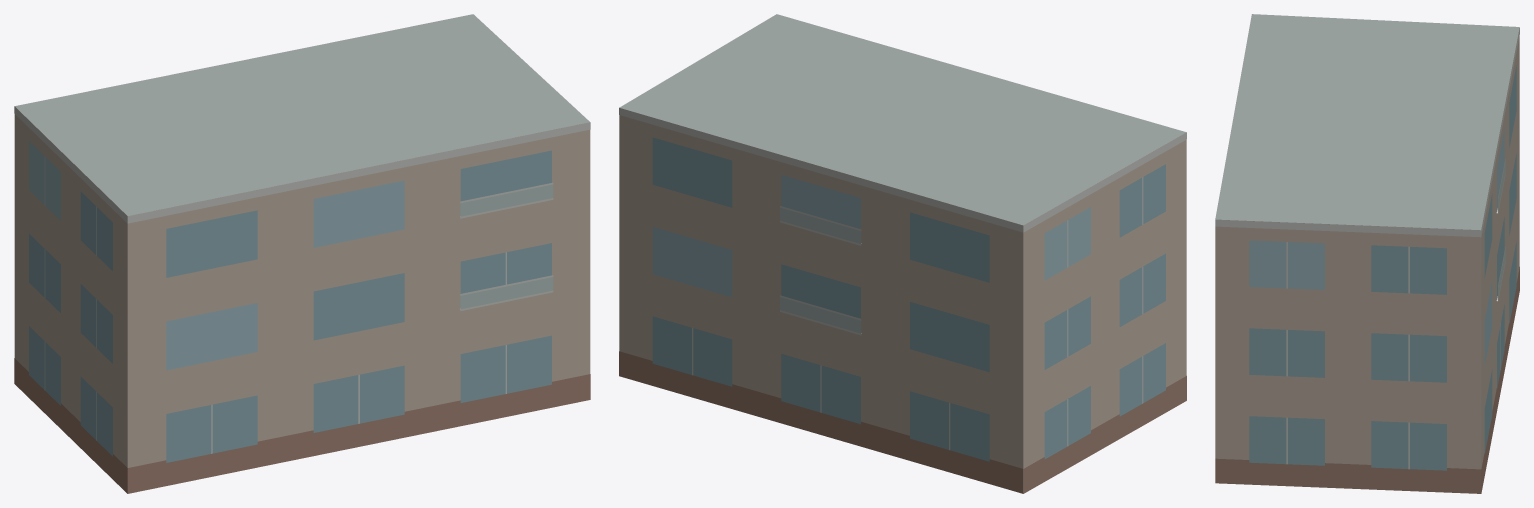
Rendered from survey-upis-32804603.glb.
The picture shows the model from 3 angles, left to right: view 1: azimuth 30°, elevation 25°; view 2: azimuth 150°, elevation 25°; view 3: azimuth 270°, elevation 25°; orthographic projection. The views are drawn at different scales.
Visible parts, largest first — view 1: survey-upis-32804603.tmp; view 2: survey-upis-32804603.tmp; view 3: survey-upis-32804603.tmp.
Part boxes in pixels (x1,y1,x2,y2): survey-upis-32804603.tmp: (14,14,590,493); survey-upis-32804603.tmp: (619,14,1186,493); survey-upis-32804603.tmp: (1215,14,1519,493).
Bounding box in the file's own units: 16.1 × 9.15 × 9.59.
